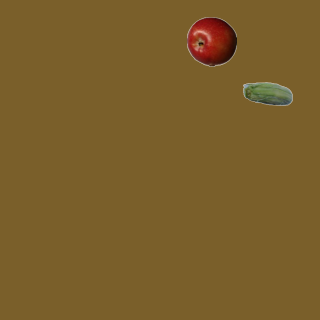Apple Braeburn: (186, 16, 236, 66)
Corn Husk: (242, 70, 292, 120)
